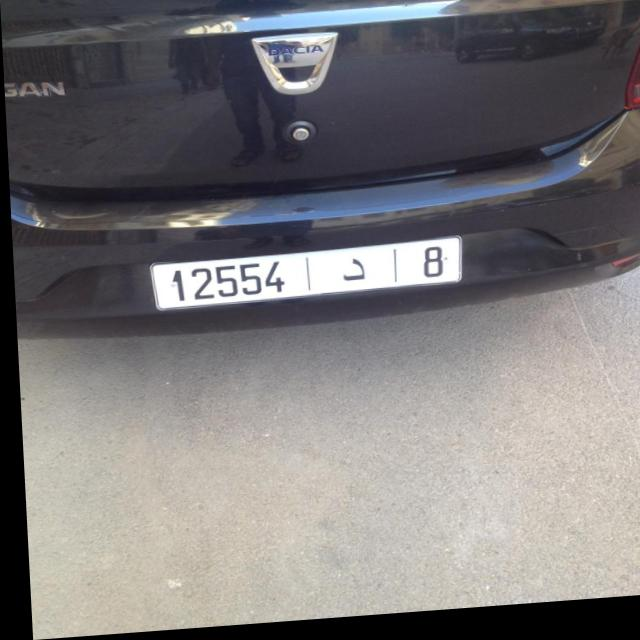License-Plate: (149, 243, 459, 313)
